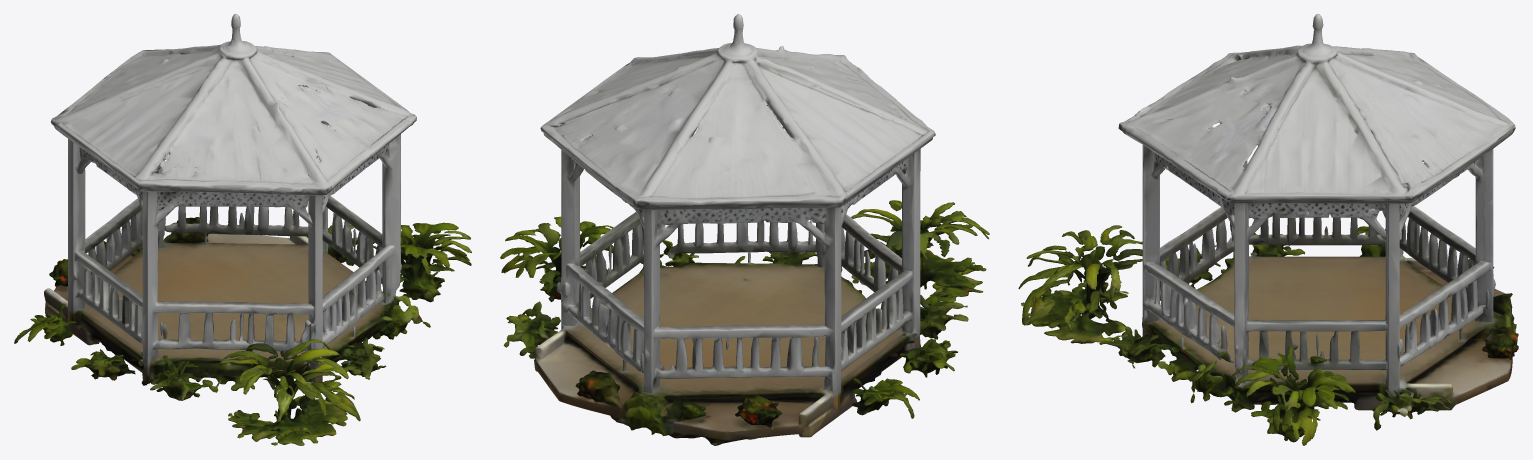
The model's file is plaza-gazebo.glb.
3 renders of one model, left to right at view 1: azimuth 30°, elevation 25°; view 2: azimuth 150°, elevation 25°; view 3: azimuth 270°, elevation 25°, orthographic. The views are drawn at different scales.
Parts seen in each view (by area): view 1: tripo_node_dabc1fde-aa17-4b8c-a9b0-69c1bdca8320; view 2: tripo_node_dabc1fde-aa17-4b8c-a9b0-69c1bdca8320; view 3: tripo_node_dabc1fde-aa17-4b8c-a9b0-69c1bdca8320.
Part boxes in pixels (x1,y1,x2,y2): tripo_node_dabc1fde-aa17-4b8c-a9b0-69c1bdca8320: [14, 14, 471, 445]; tripo_node_dabc1fde-aa17-4b8c-a9b0-69c1bdca8320: [500, 14, 989, 445]; tripo_node_dabc1fde-aa17-4b8c-a9b0-69c1bdca8320: [1018, 14, 1518, 445].
Bounding box in the file's own units: 5.48 × 4 × 5.38.
1 material, 1 textured.
